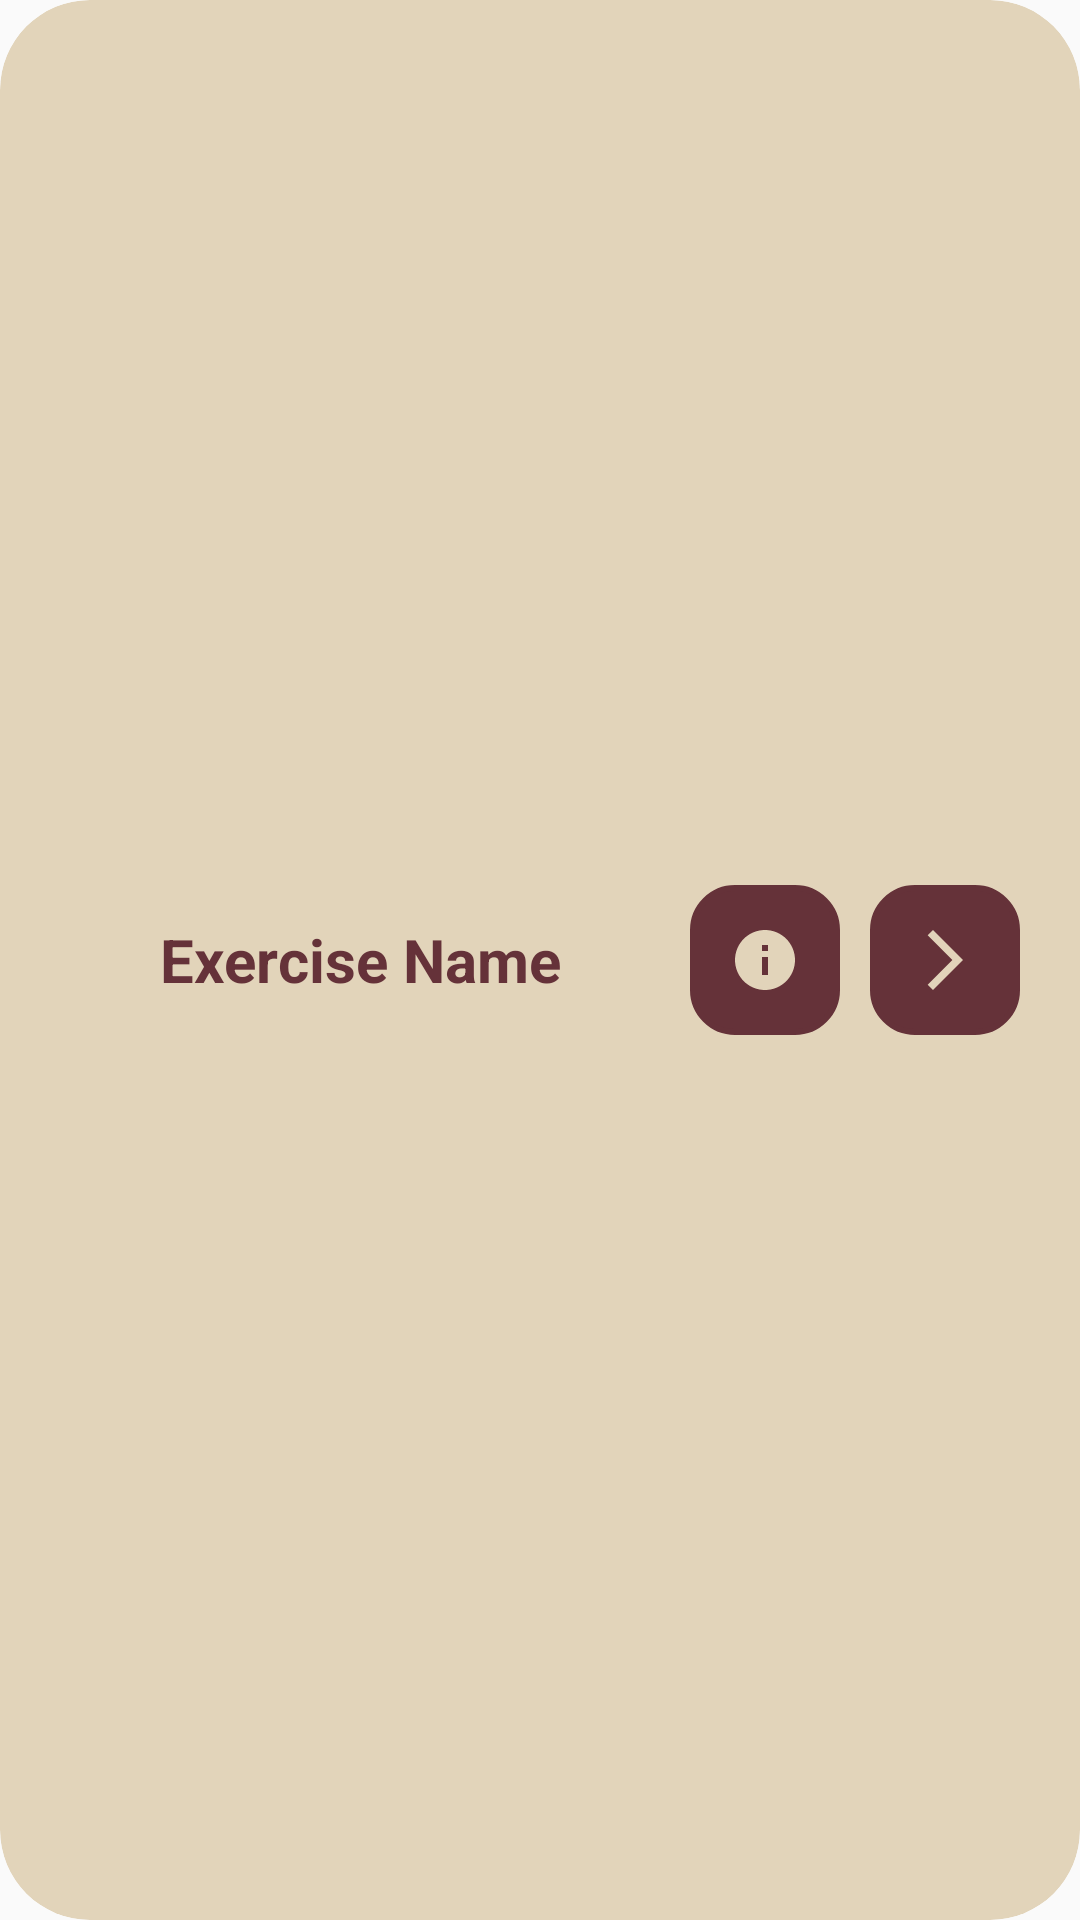

Named icons in this screenshot (1080 × 1920) and their bounding boxes, (left=x1, top=y1, right=x2, bottom=y2):
forward: (left=870, top=885, right=1020, bottom=1035)
info: (left=690, top=885, right=840, bottom=1035)
